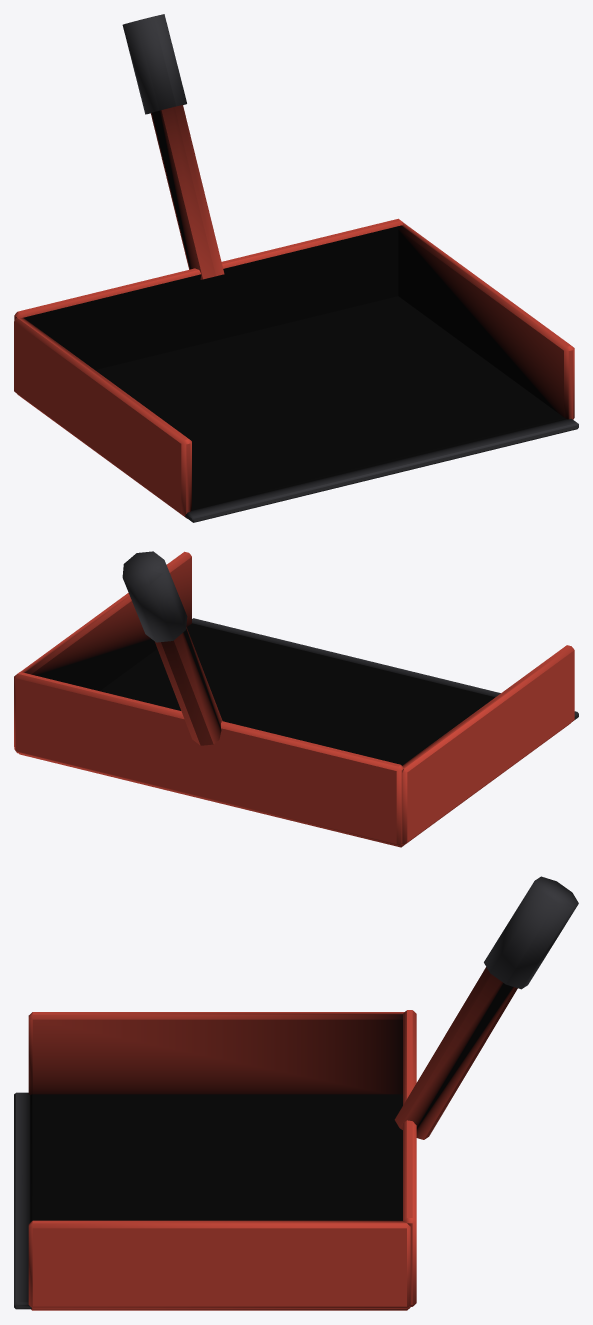
Rendered from dustpan.glb.
The picture shows the model from 3 angles, top to bottom: view 1: azimuth 30°, elevation 25°; view 2: azimuth 150°, elevation 25°; view 3: azimuth 270°, elevation 25°; orthographic projection. The views are drawn at different scales.
Visible parts, largest first — view 1: floor, back, side_-1, side_1, stem, lip, grip; view 2: back, floor, side_-1, side_1, grip, stem, lip; view 3: floor, side_1, side_-1, stem, grip, lip, back.
Part boxes in pixels (x1=…): floor: x1=17, y1=296, x2=566, y2=518; back: x1=14, y1=218, x2=403, y2=369; side_-1: x1=14, y1=317, x2=191, y2=515; side_1: x1=398, y1=223, x2=574, y2=419; stem: x1=151, y1=105, x2=224, y2=279; lip: x1=185, y1=418, x2=578, y2=522; grip: x1=122, y1=14, x2=186, y2=114; back: x1=14, y1=672, x2=403, y2=845; floor: x1=19, y1=623, x2=571, y2=847; side_-1: x1=402, y1=645, x2=574, y2=844; side_1: x1=14, y1=551, x2=191, y2=746; grip: x1=122, y1=551, x2=187, y2=642; stem: x1=154, y1=627, x2=222, y2=745; lip: x1=192, y1=618, x2=578, y2=721; floor: x1=30, y1=1094, x2=410, y2=1310; side_1: x1=28, y1=1220, x2=410, y2=1308; side_-1: x1=28, y1=1012, x2=404, y2=1094; stem: x1=394, y1=967, x2=517, y2=1139; grip: x1=484, y1=876, x2=578, y2=989; lip: x1=14, y1=1092, x2=31, y2=1309; back: x1=403, y1=1010, x2=416, y2=1306.
Size of the model in its own units: 0.259 by 0.1834 by 0.2883.
